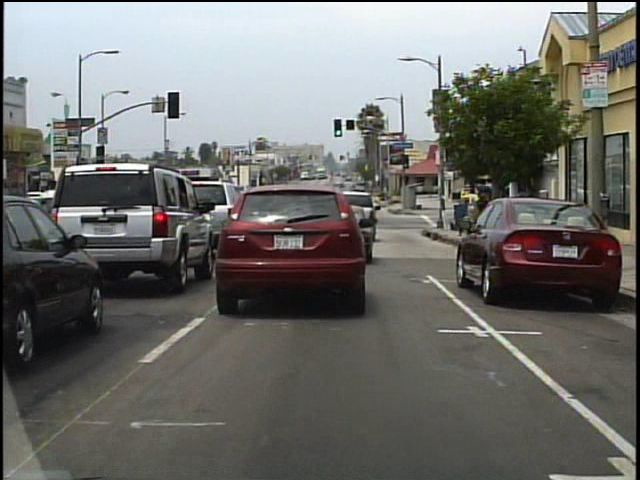person: (474, 194, 488, 244)
